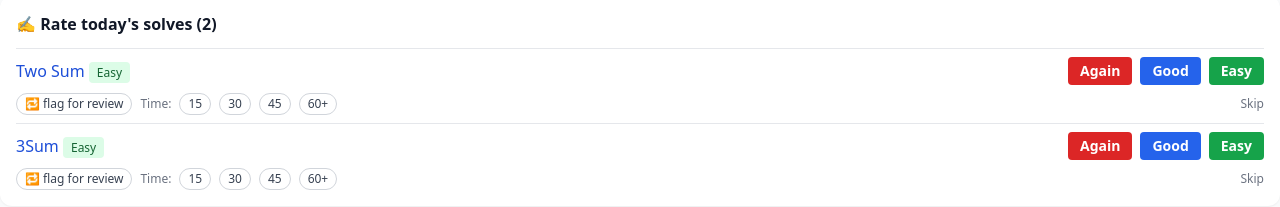
Test: RateSolveCard › Skip hides the row without saving
This screenshot has width=1280, height=207.
Click the 1st button "Skip" at (1252, 104), box [1240,96,1264,112]
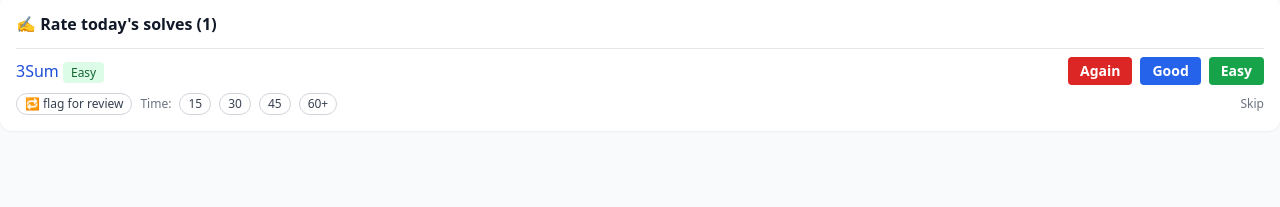
Expected: the link "3Sum" is shown, [16,60,59,82]
Expected: the link "Two Sum" is gone
